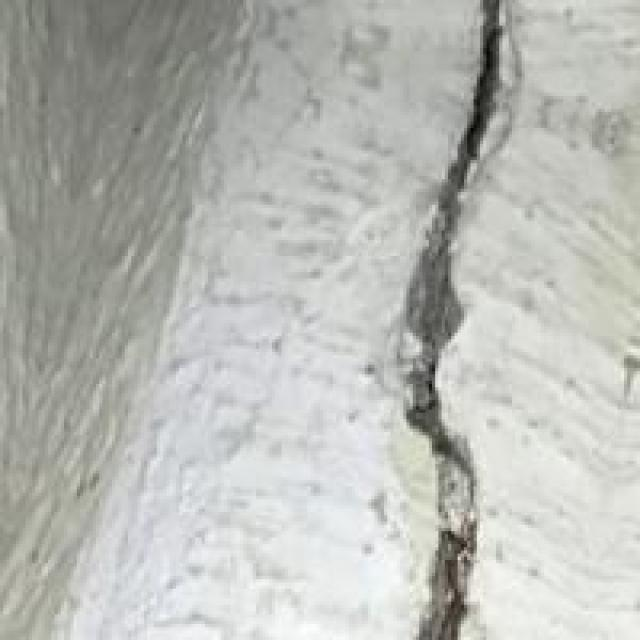Crack: (294, 0, 586, 637)
